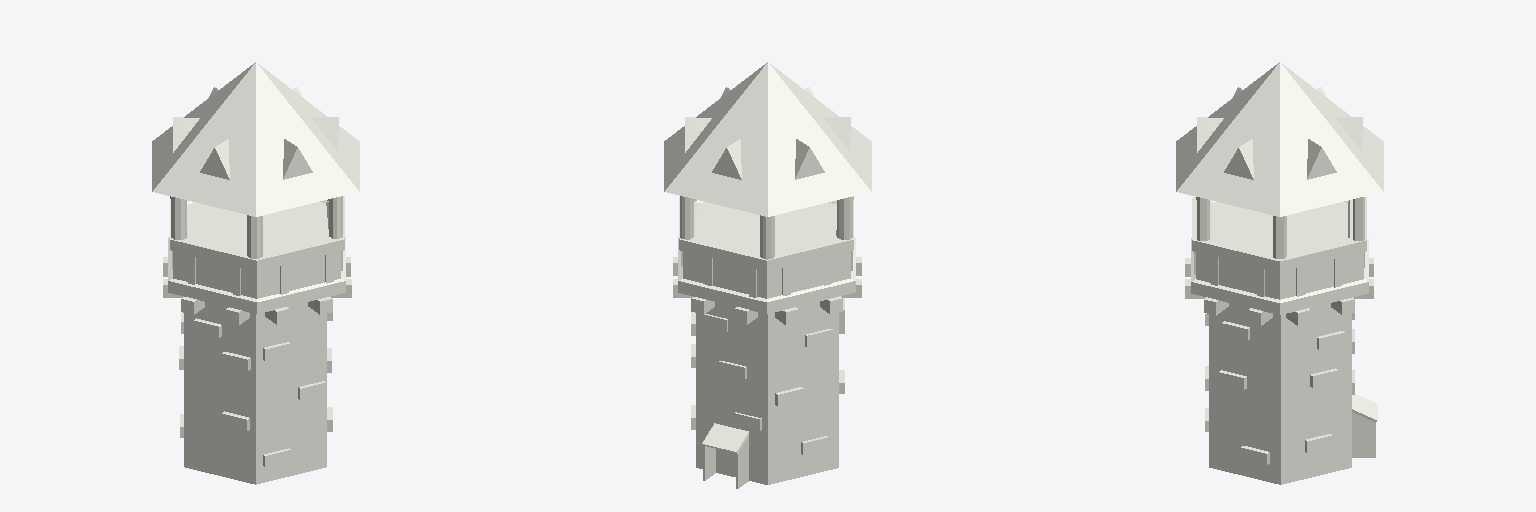
File: ArcherTower.obj
3 renders of one model, left to right at view 1: azimuth 30°, elevation 25°; view 2: azimuth 150°, elevation 25°; view 3: azimuth 270°, elevation 25°, orthographic.
Visible parts, largest first — view 1: Cube.005_Cube.032; view 2: Cube.005_Cube.032; view 3: Cube.005_Cube.032.
Boxes of the visible parts, <box> form: Cube.005_Cube.032: <box>152,62,359,484</box>; Cube.005_Cube.032: <box>664,62,871,488</box>; Cube.005_Cube.032: <box>1176,62,1383,484</box>.
Bounding box in the file's own units: 0.6726 × 1.2 × 0.5825.